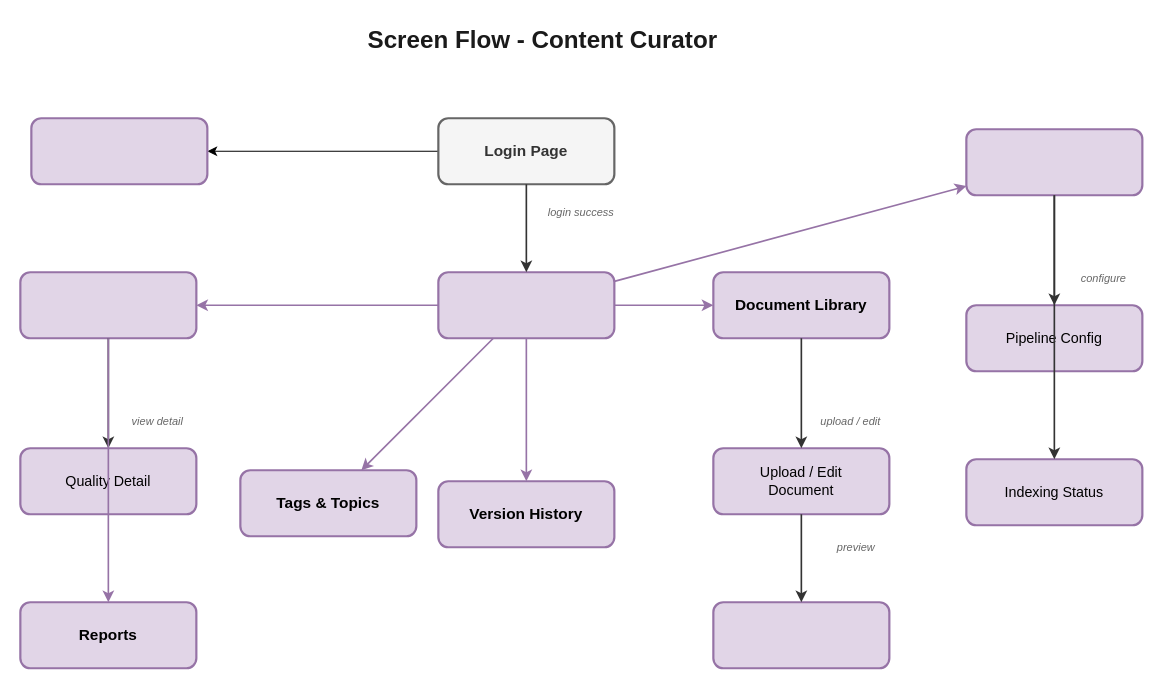
Some shapes in this 1162 by 688 pixel diagram are drawn without their labels. The centre of each missing label's shape, as x and y in pixels:
"Content Quality" goes at point (108, 305).
"Dashboard" goes at point (526, 305).
"Document Preview" goes at point (801, 635).
"Indexing Pipeline" goes at point (1054, 162).
"Settings" goes at point (119, 151).
